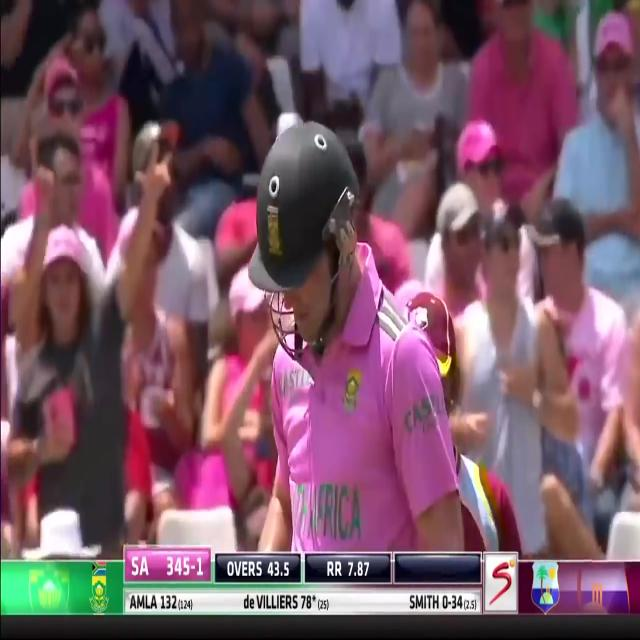Ball: (244, 117, 490, 553)
